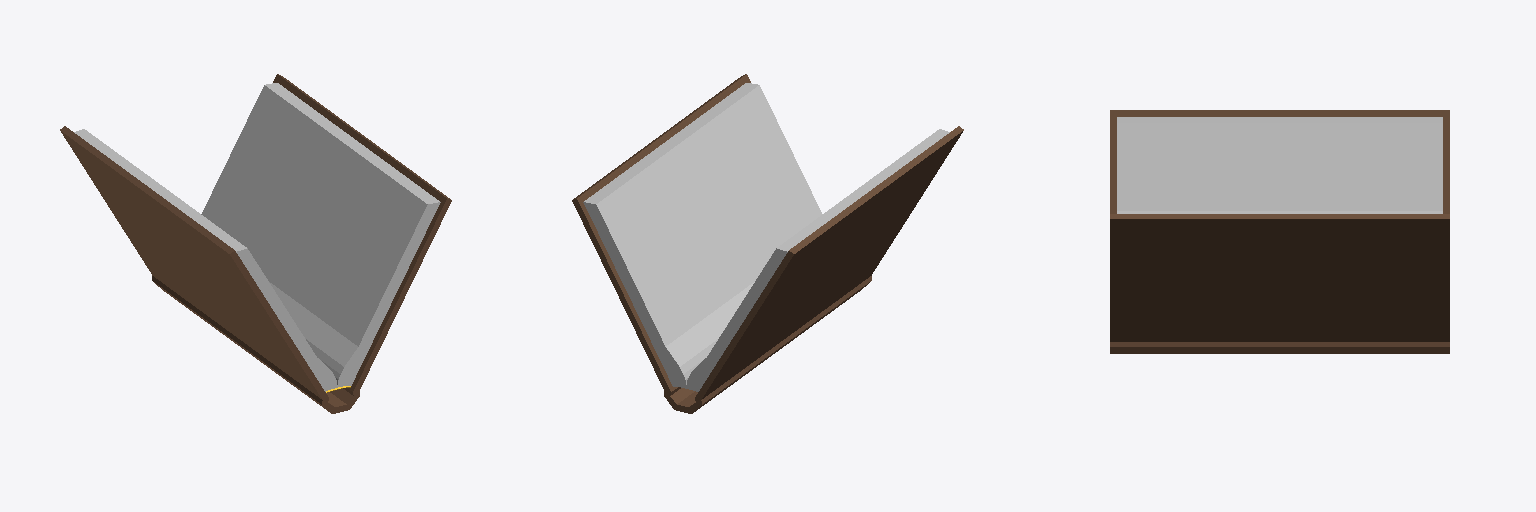
File: book60.obj
3 renders of one model, left to right at view 1: azimuth 30°, elevation 25°; view 2: azimuth 150°, elevation 25°; view 3: azimuth 270°, elevation 25°, orthographic.
Parts seen in each view (by area): view 1: Cover_O; view 2: Cover_O; view 3: Cover_O.
Part boxes in pixels (left/top/right/bottom): Cover_O: left=60, top=74, right=451, bottom=413; Cover_O: left=572, top=74, right=963, bottom=413; Cover_O: left=1110, top=110, right=1449, bottom=353.
Bounding box in the file's own units: 75.46 × 60.89 × 100.